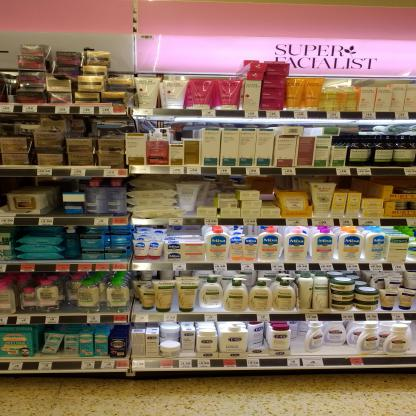Void: (74, 118, 122, 136), (172, 122, 196, 137), (338, 176, 364, 189), (394, 176, 413, 193), (264, 180, 275, 206), (8, 181, 40, 188), (26, 228, 60, 234), (167, 230, 200, 236)
